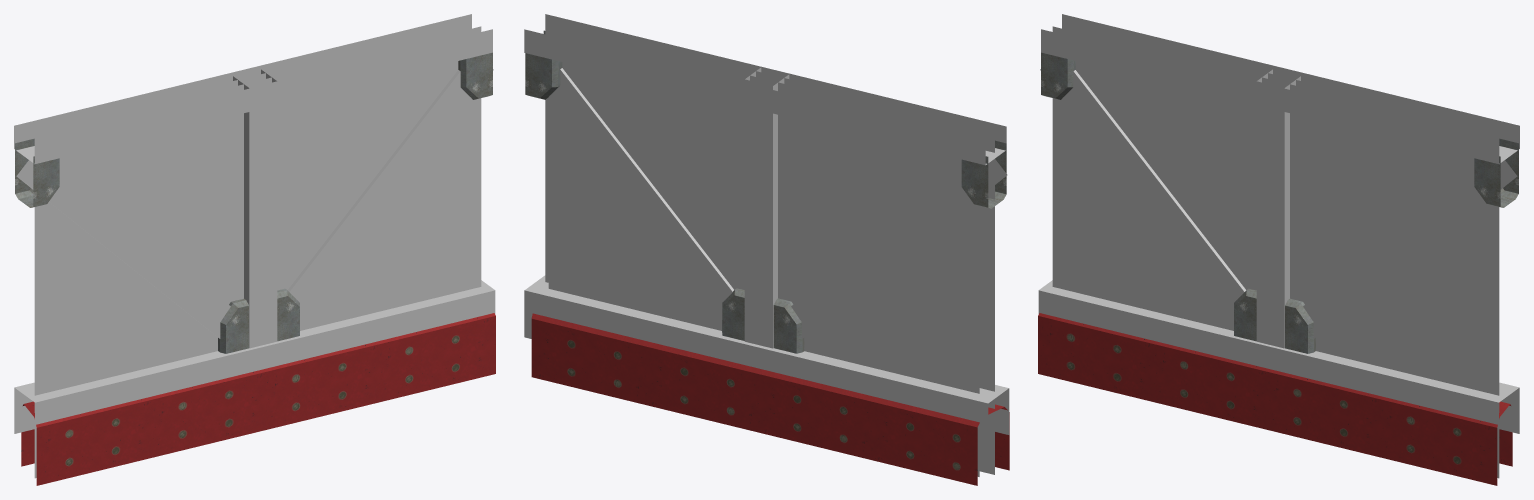
The model's file is Ob_WallSingle_RC.fbx.
3 renders of one model, left to right at view 1: azimuth 30°, elevation 25°; view 2: azimuth 150°, elevation 25°; view 3: azimuth 330°, elevation 25°, orthographic.
Visible parts, largest first — view 1: Ob_WallSingle_RC; view 2: Ob_WallSingle_RC; view 3: Ob_WallSingle_RC.
Part boxes in pixels (x1,y1,x2,y2): Ob_WallSingle_RC: [14, 14, 495, 485]; Ob_WallSingle_RC: [524, 14, 1009, 485]; Ob_WallSingle_RC: [1038, 14, 1519, 485].
Size of the model in its own units: 1425 by 1000 by 125.
